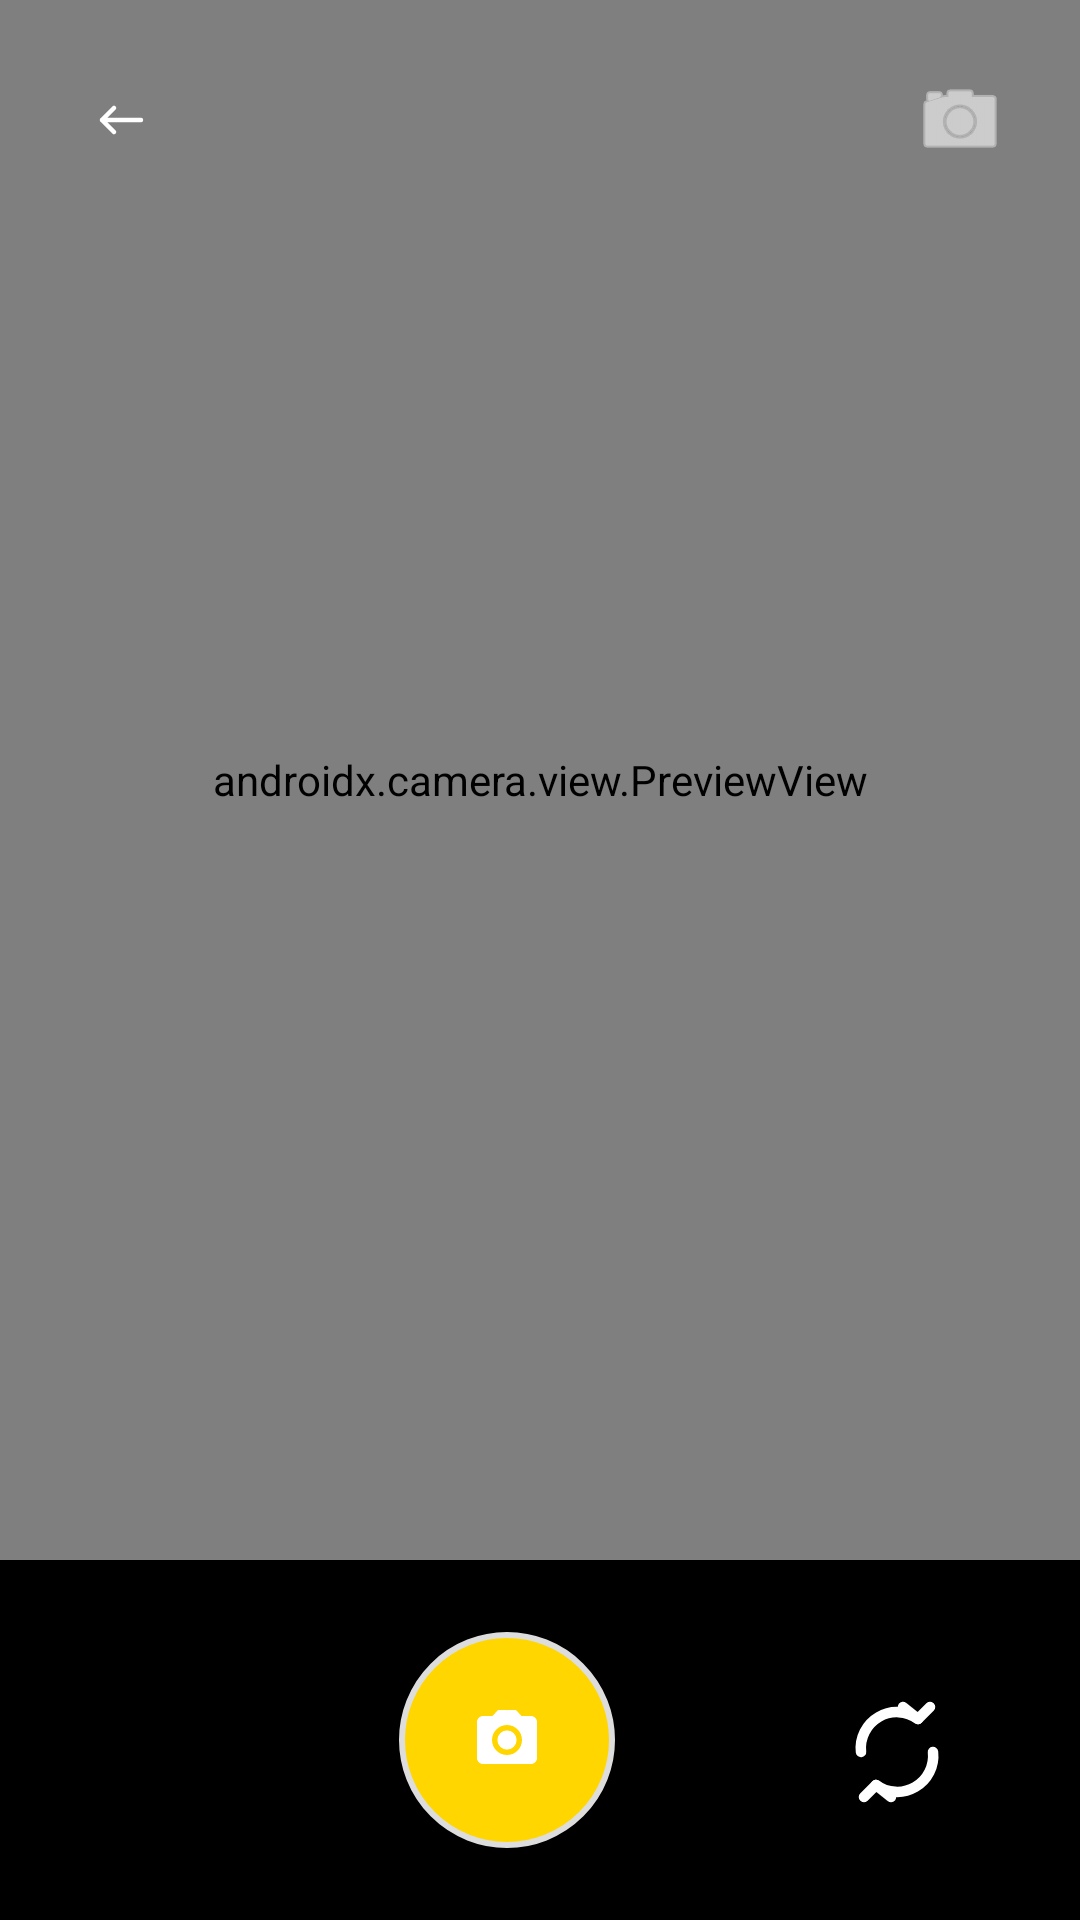

Icons on this 1080x1920 Android screen, each with its box as bbox=(x1, y1, x2, y2):
Back: bbox=(100, 105, 143, 135)
Capture Photo: bbox=(399, 1632, 615, 1848)
Switch Camera: bbox=(855, 1701, 939, 1803)
